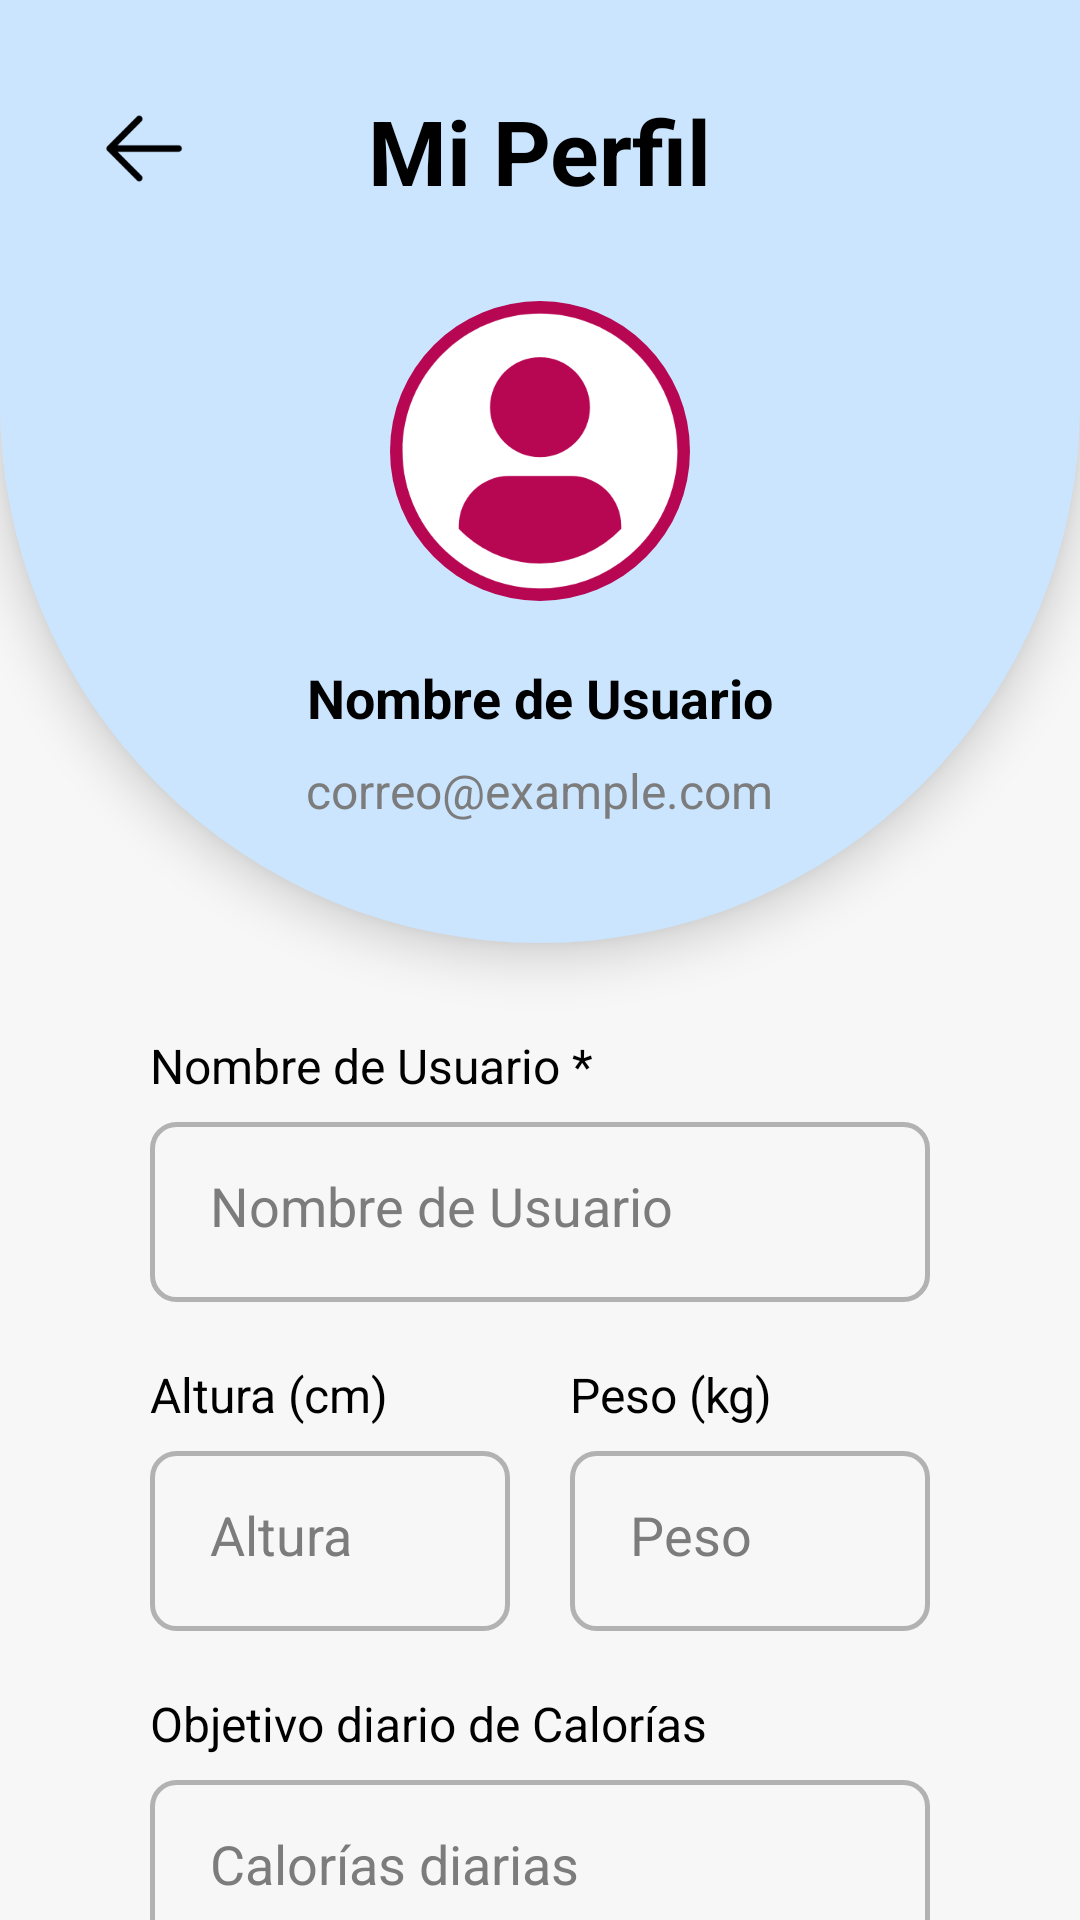

Locate icon controls on the screen. Image size 1080*1920, boxes as [x1=x1, y1=y1, x2=x2, y2=y2].
Icono de usuario: [x1=390, y1=301, x2=690, y2=601]
Volver atrás: [x1=106, y1=115, x2=182, y2=182]
